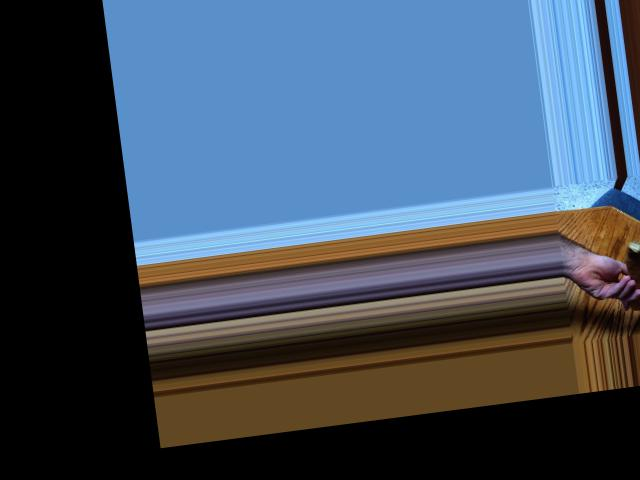sweet_potato: (615, 239, 640, 313)
